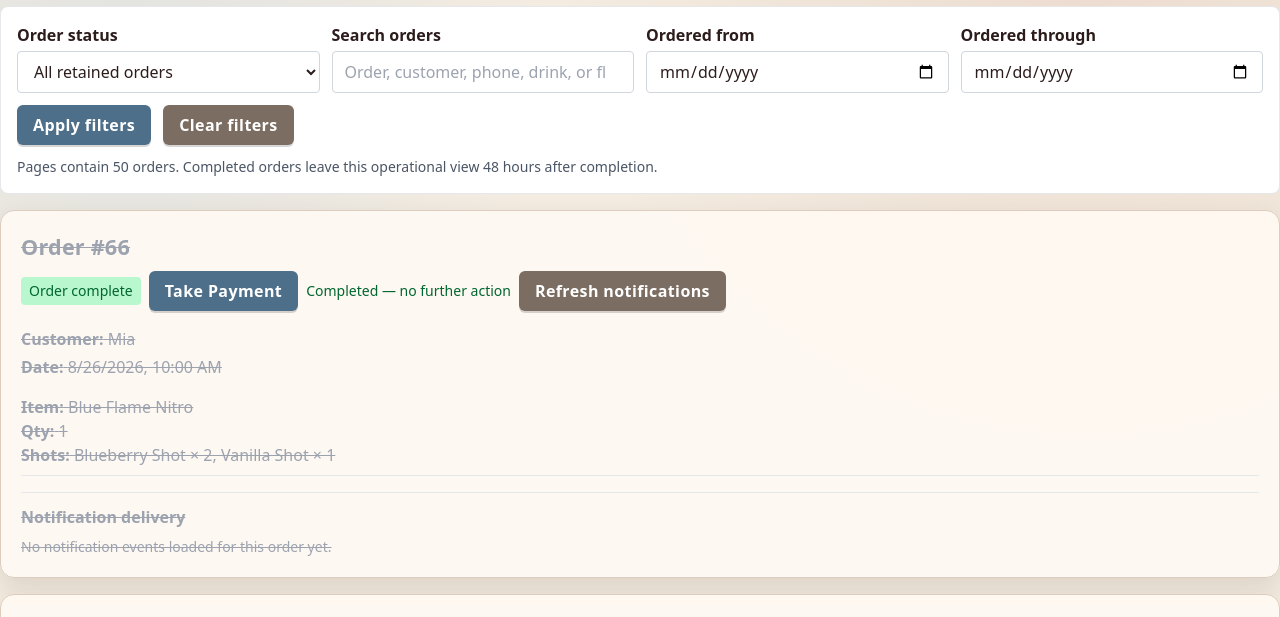
Test: ViewOrders › shows each selected order's server total rather than calculating from menu prices
The image size is (1280, 617).
Step 1. Click the button "Take Payment" below "Order #66" → click(223, 291), box [149,271,298,311]
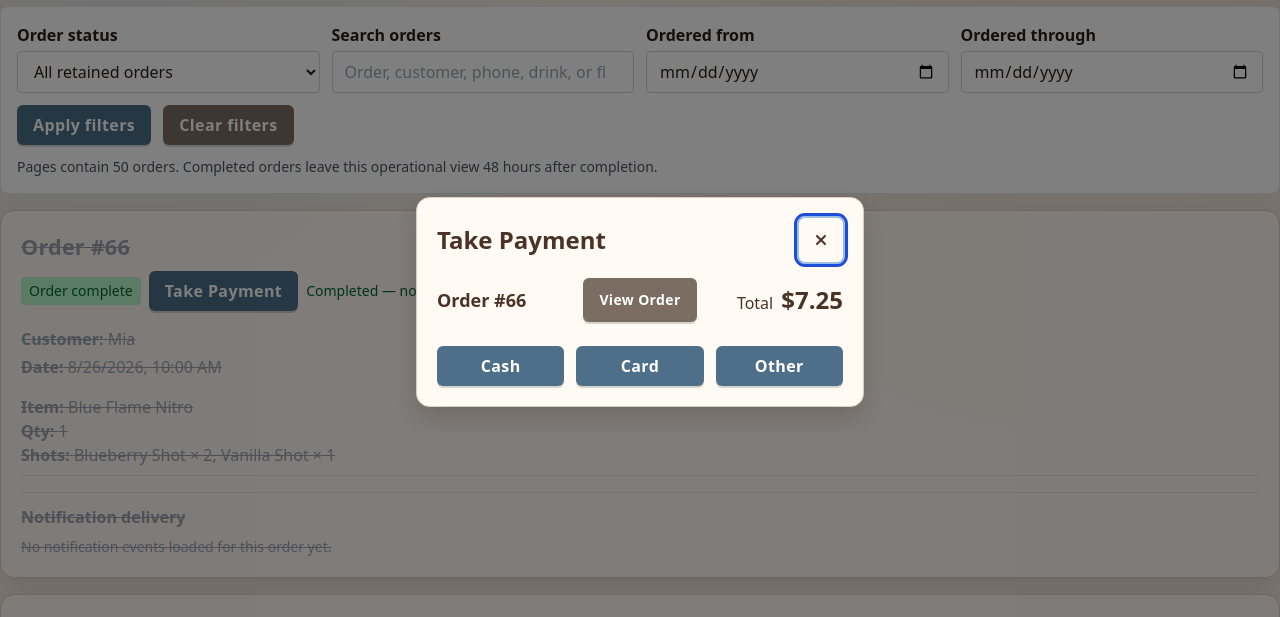
Expected: the text "$7.25" is shown, [781,284,843,316]
Step 2. Press Escape
(page scrolled)
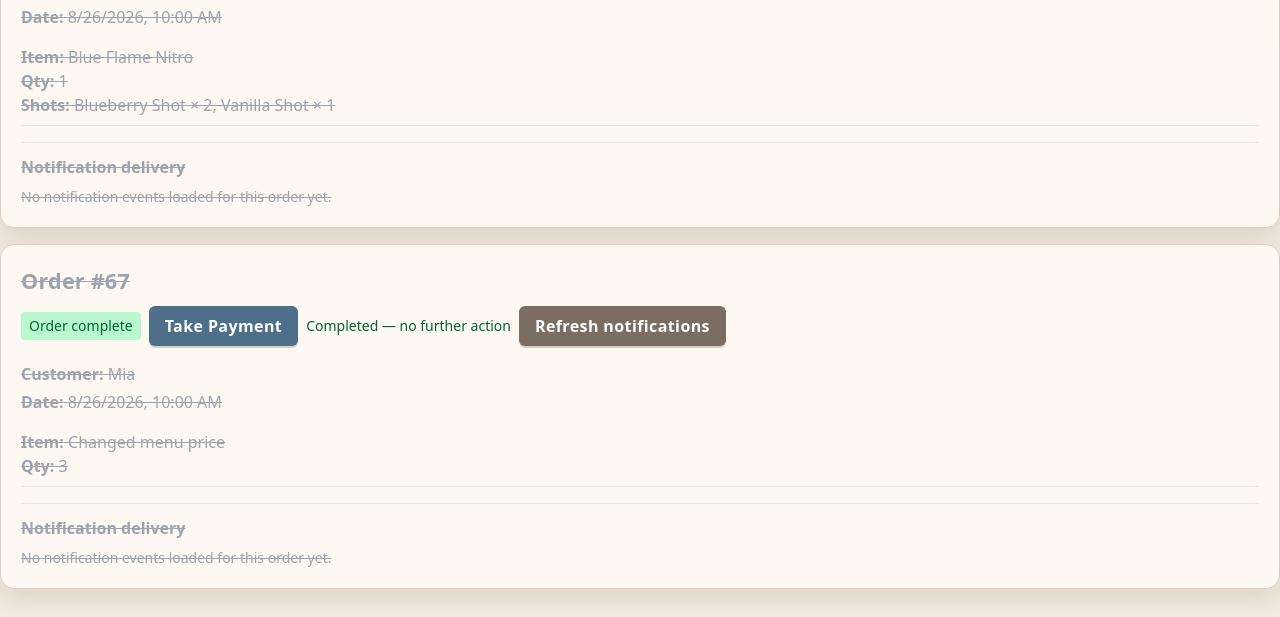
Step 3. Click the button "Take Payment" below "Order #67" → click(223, 326), box [149,306,298,346]
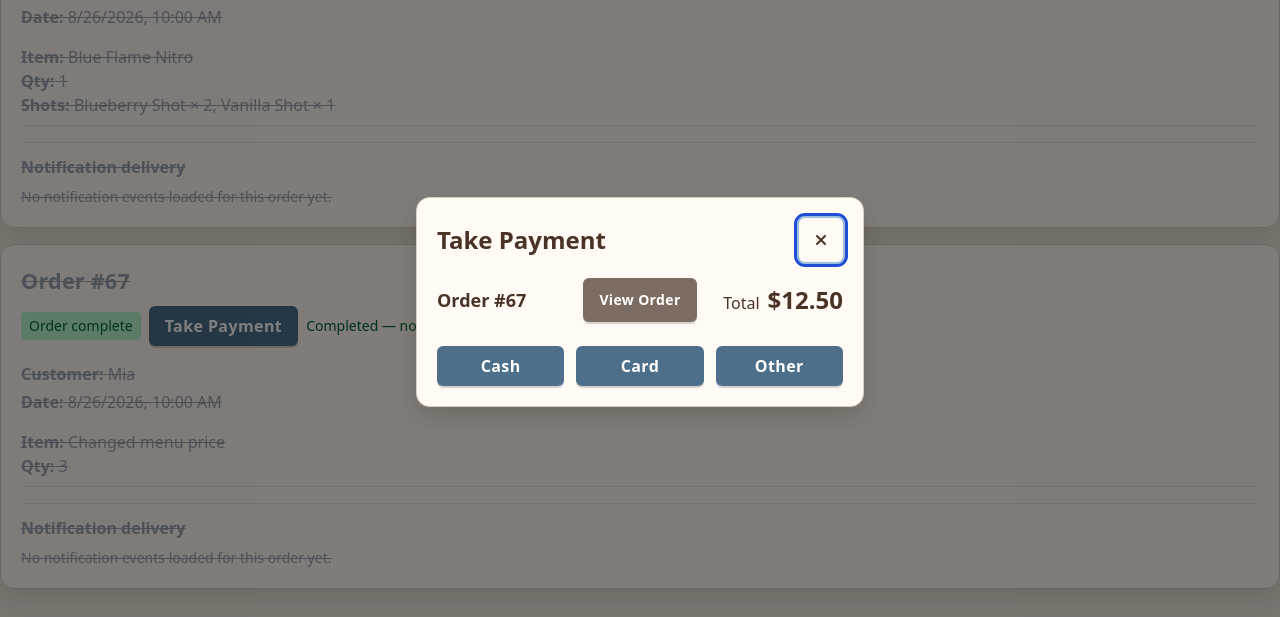
Expected: the text "Order #67" is shown, [437,288,526,312]
Expected: the text "$12.50" is shown, [768,284,843,316]
